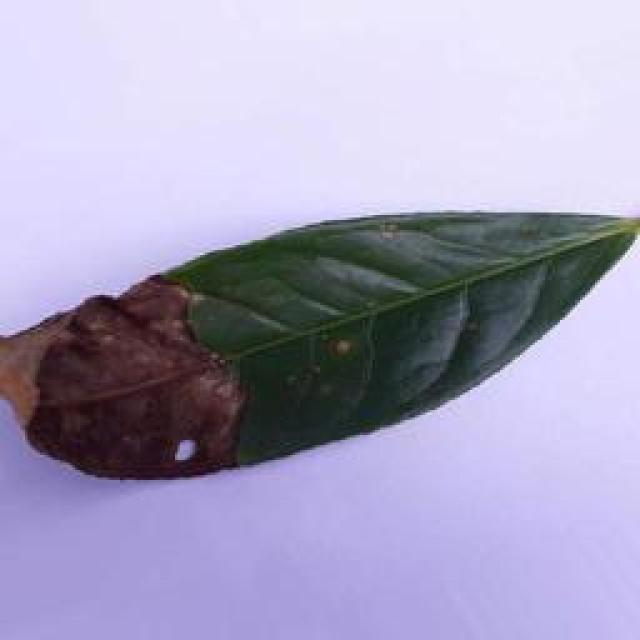Brown Blight: (2, 193, 640, 505)
